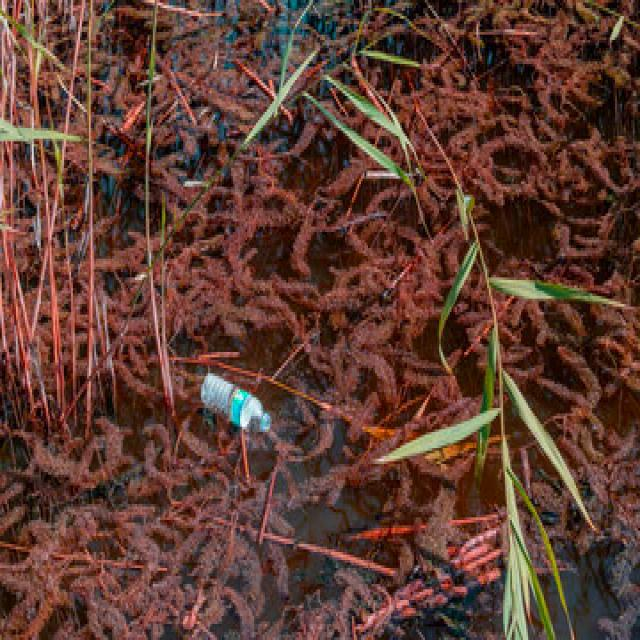Plastic: (197, 372, 273, 431)
